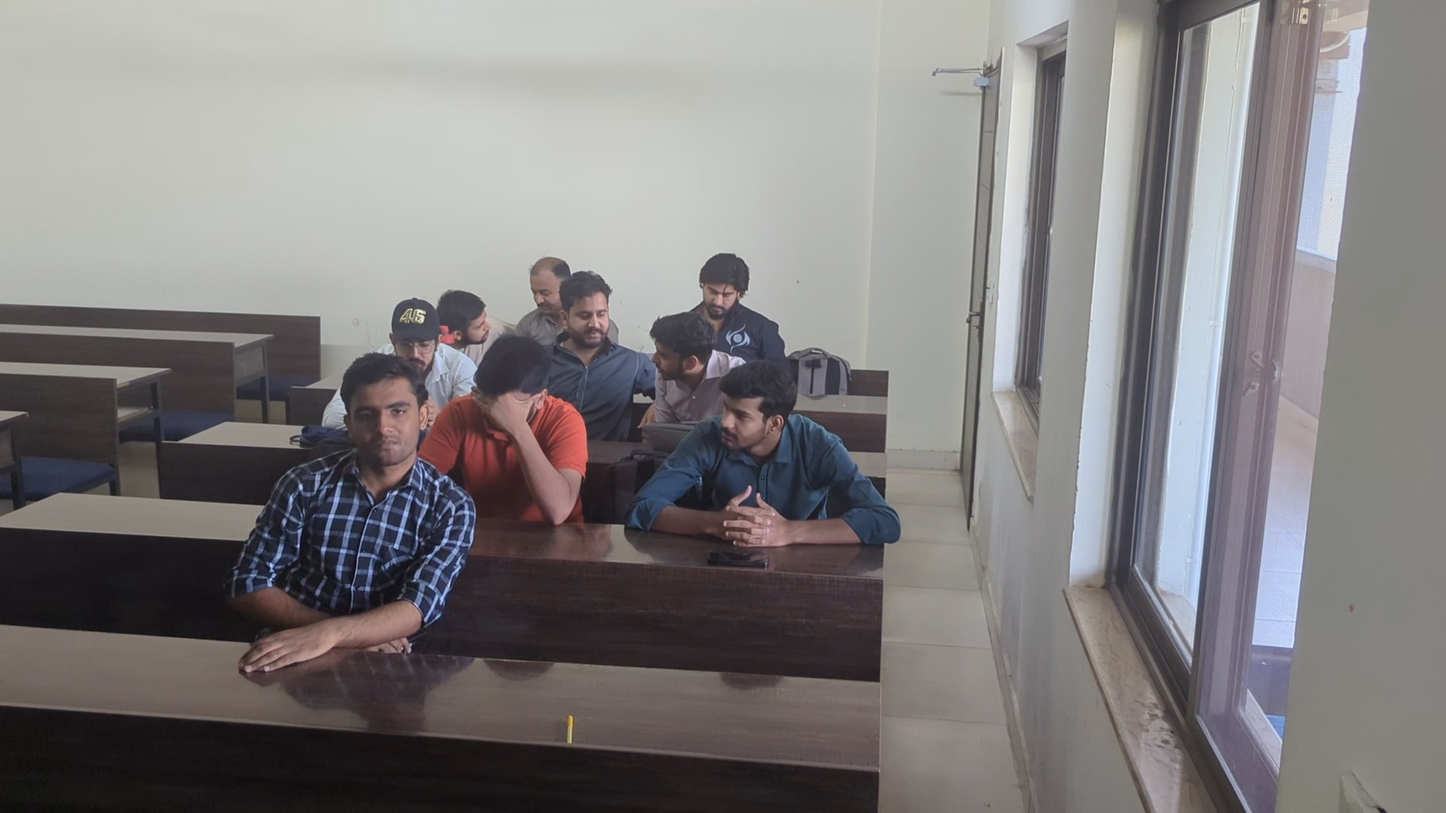look_forward: (230, 355, 465, 657), (620, 361, 887, 550)
sleep: (453, 339, 585, 519)
turn_head: (551, 273, 648, 393), (627, 308, 719, 409), (486, 252, 563, 319), (437, 280, 496, 350)
using_device: (692, 248, 760, 325), (386, 294, 444, 371)
